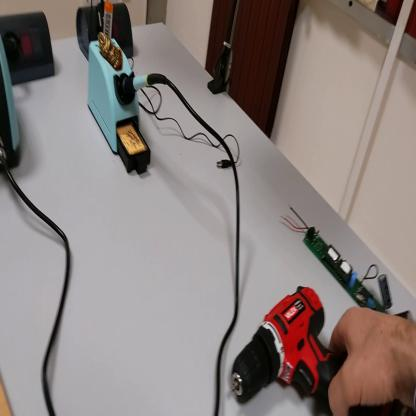electric screwdriver: (228, 288, 413, 415)
hand: (326, 304, 416, 414)
high voltage board: (283, 204, 393, 313)
socket: (1, 11, 58, 88), (77, 2, 135, 61)
welder base: (90, 1, 153, 179)
welder probe tip: (122, 73, 170, 101)
welder station: (2, 36, 21, 172)
working area: (1, 373, 14, 416)
